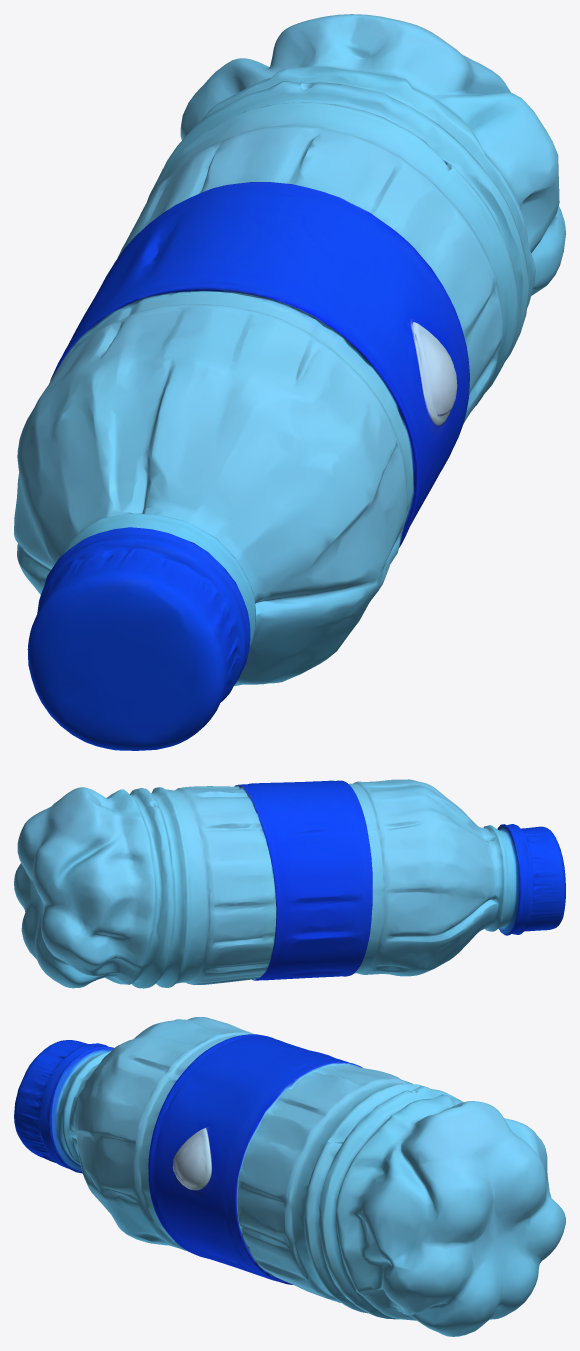
Rendered from waterbottle.glb.
3 renders of one model, top to bottom at view 1: azimuth 30°, elevation 25°; view 2: azimuth 150°, elevation 25°; view 3: azimuth 270°, elevation 25°, orthographic. The views are drawn at different scales.
Visible parts, largest first — view 1: tripo_node_a36a4d3d-7e71-4bfe-9176-f6387e4476d2; view 2: tripo_node_a36a4d3d-7e71-4bfe-9176-f6387e4476d2; view 3: tripo_node_a36a4d3d-7e71-4bfe-9176-f6387e4476d2.
Boxes of the visible parts, bbox=[...] form: tripo_node_a36a4d3d-7e71-4bfe-9176-f6387e4476d2: bbox=[14, 14, 565, 750]; tripo_node_a36a4d3d-7e71-4bfe-9176-f6387e4476d2: bbox=[14, 779, 565, 988]; tripo_node_a36a4d3d-7e71-4bfe-9176-f6387e4476d2: bbox=[14, 1017, 565, 1336].
Size of the model in its own units: 0.9797 by 0.4787 by 0.9782.
1 material, 1 textured.
